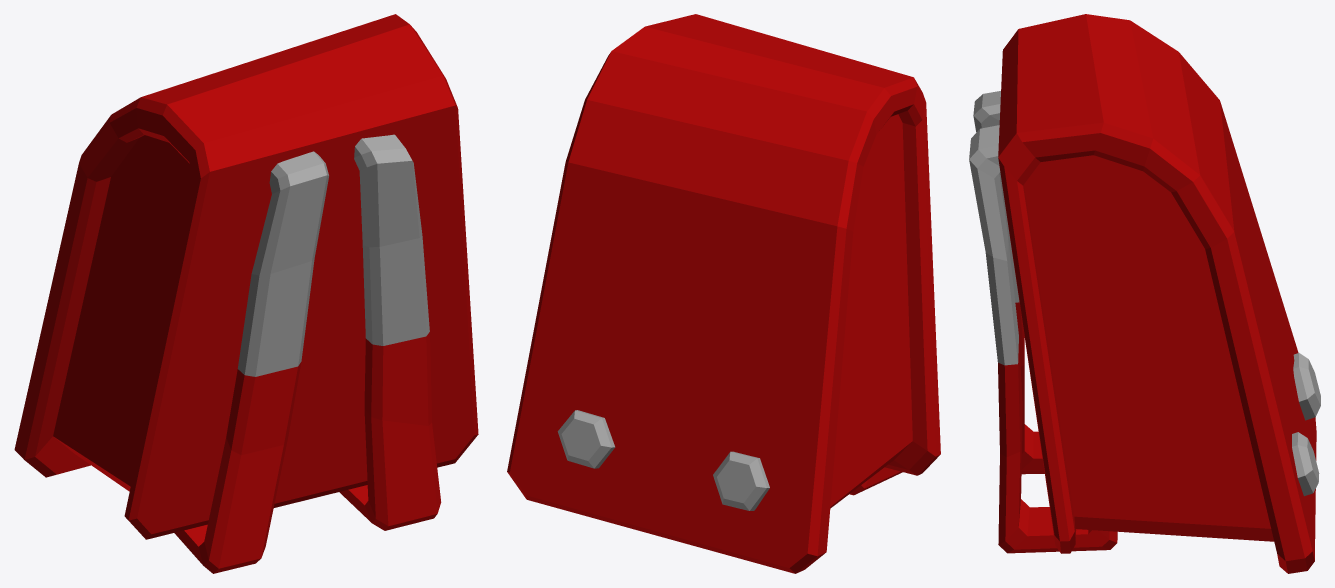
Rendered from backpack_standing.fbx.
3 views of the same model, side by side, from view 1: azimuth 30°, elevation 25°; view 2: azimuth 150°, elevation 25°; view 3: azimuth 270°, elevation 25° (orthographic). The views are drawn at different scales.
Visible parts, largest first — view 1: Cube.001; view 2: Cube.001; view 3: Cube.001.
Boxes of the visible parts, x1,y1,x2,y2 form: Cube.001: (14,14,478,573); Cube.001: (507,14,940,573); Cube.001: (969,14,1320,573).
Size of the model in its own units: 42.72 by 53.38 by 38.01.
